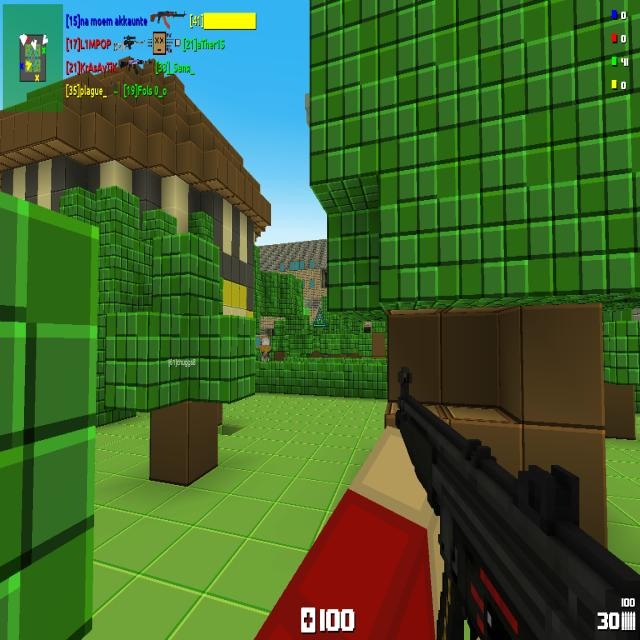enemy: (260, 334, 271, 362)
